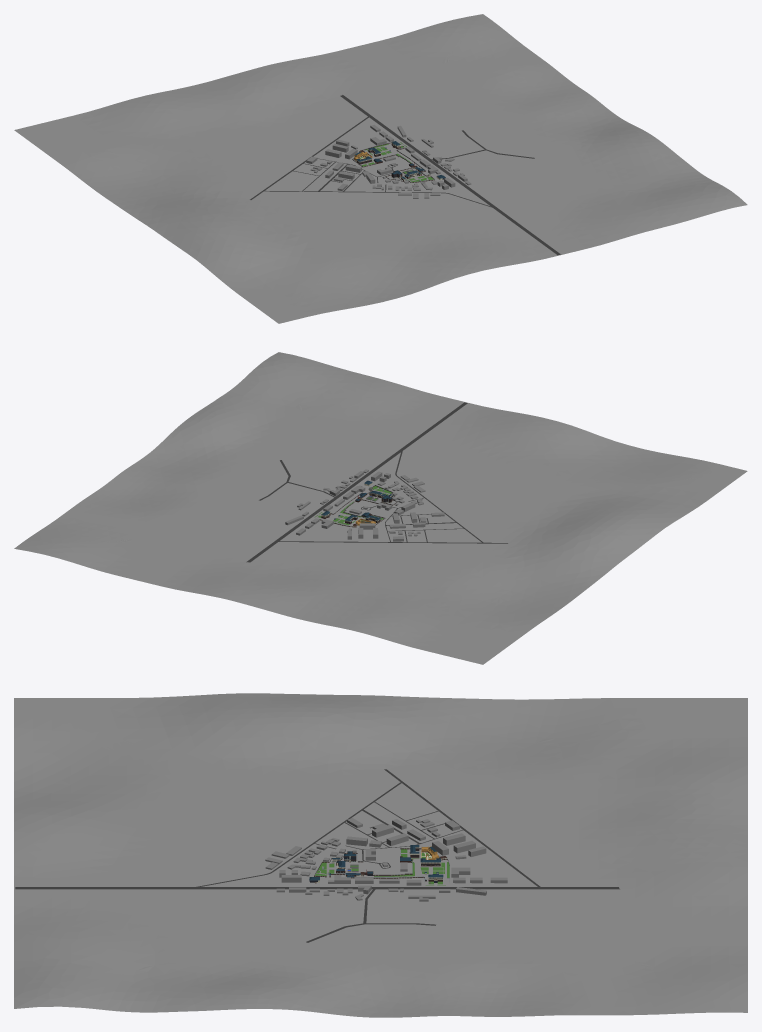
File: map.glb
3 renders of one model, top to bottom at view 1: azimuth 30°, elevation 25°; view 2: azimuth 150°, elevation 25°; view 3: azimuth 270°, elevation 25°, orthographic. The views are drawn at different scales.
Visible parts, largest first — view 1: Plane, Plane.002; view 2: Plane, Plane.002; view 3: Plane, Plane.002, Cube.116, Plane.001.
Part boxes in pixels (box(x1,y1,x2,y2)): Plane: box(14, 14, 747, 323); Plane.002: box(250, 95, 560, 255); Plane: box(14, 352, 747, 664); Plane.002: box(246, 402, 507, 562); Plane: box(14, 693, 747, 1017); Plane.002: box(15, 769, 619, 942); Cube.116: box(315, 849, 449, 885); Plane.001: box(343, 801, 464, 868).
Bounding box in the file's own units: 568 × 15.27 × 556.
15 materials, 1 textured.
